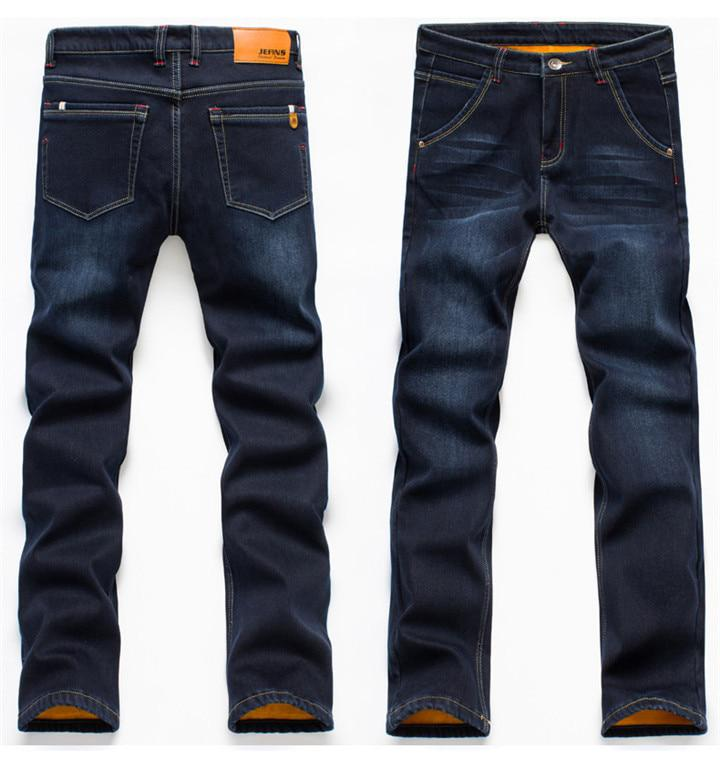jeans: (340, 18, 717, 754), (14, 10, 331, 730)
